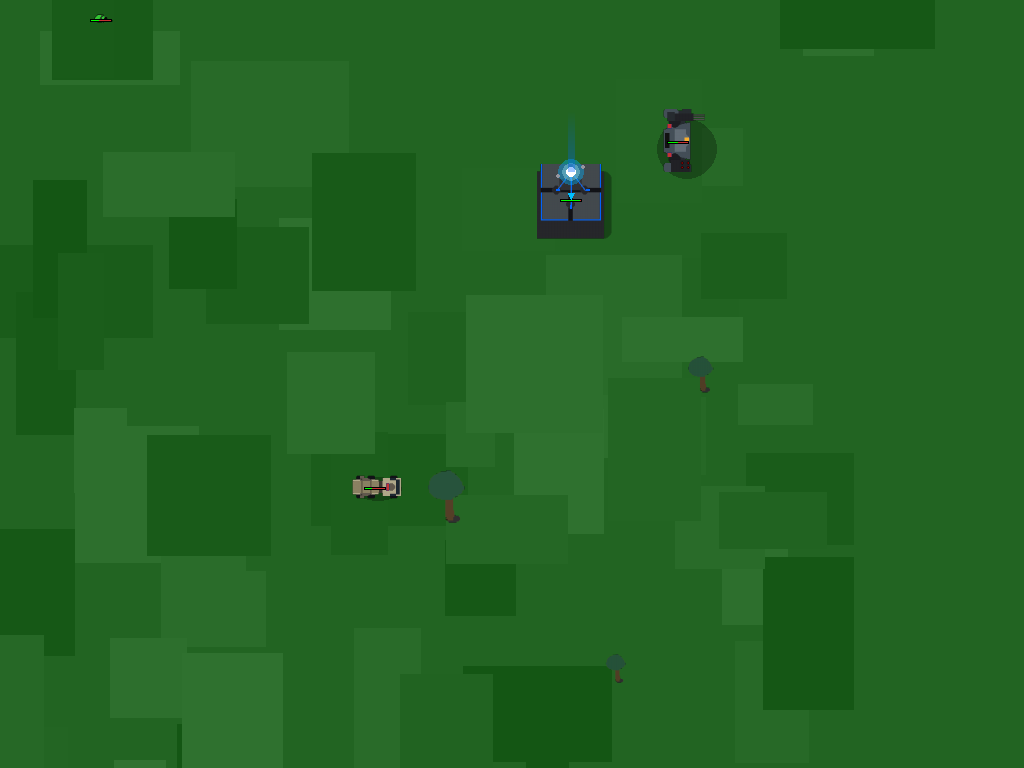HIMARS: (350, 461, 399, 510)
HeavyMech: (654, 116, 702, 164)
ResearchCenter: (531, 158, 610, 237)
Sniper: (86, 3, 116, 33)
